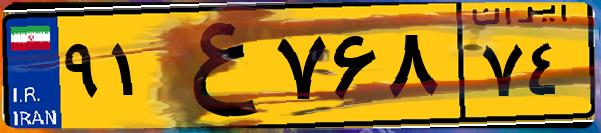1: (110, 28, 158, 98)
4: (525, 38, 570, 115)
6: (330, 28, 385, 110)
7: (270, 28, 330, 110), (475, 38, 525, 113)
8: (385, 28, 445, 110)
9: (57, 26, 110, 100)
ع: (158, 12, 270, 120)
